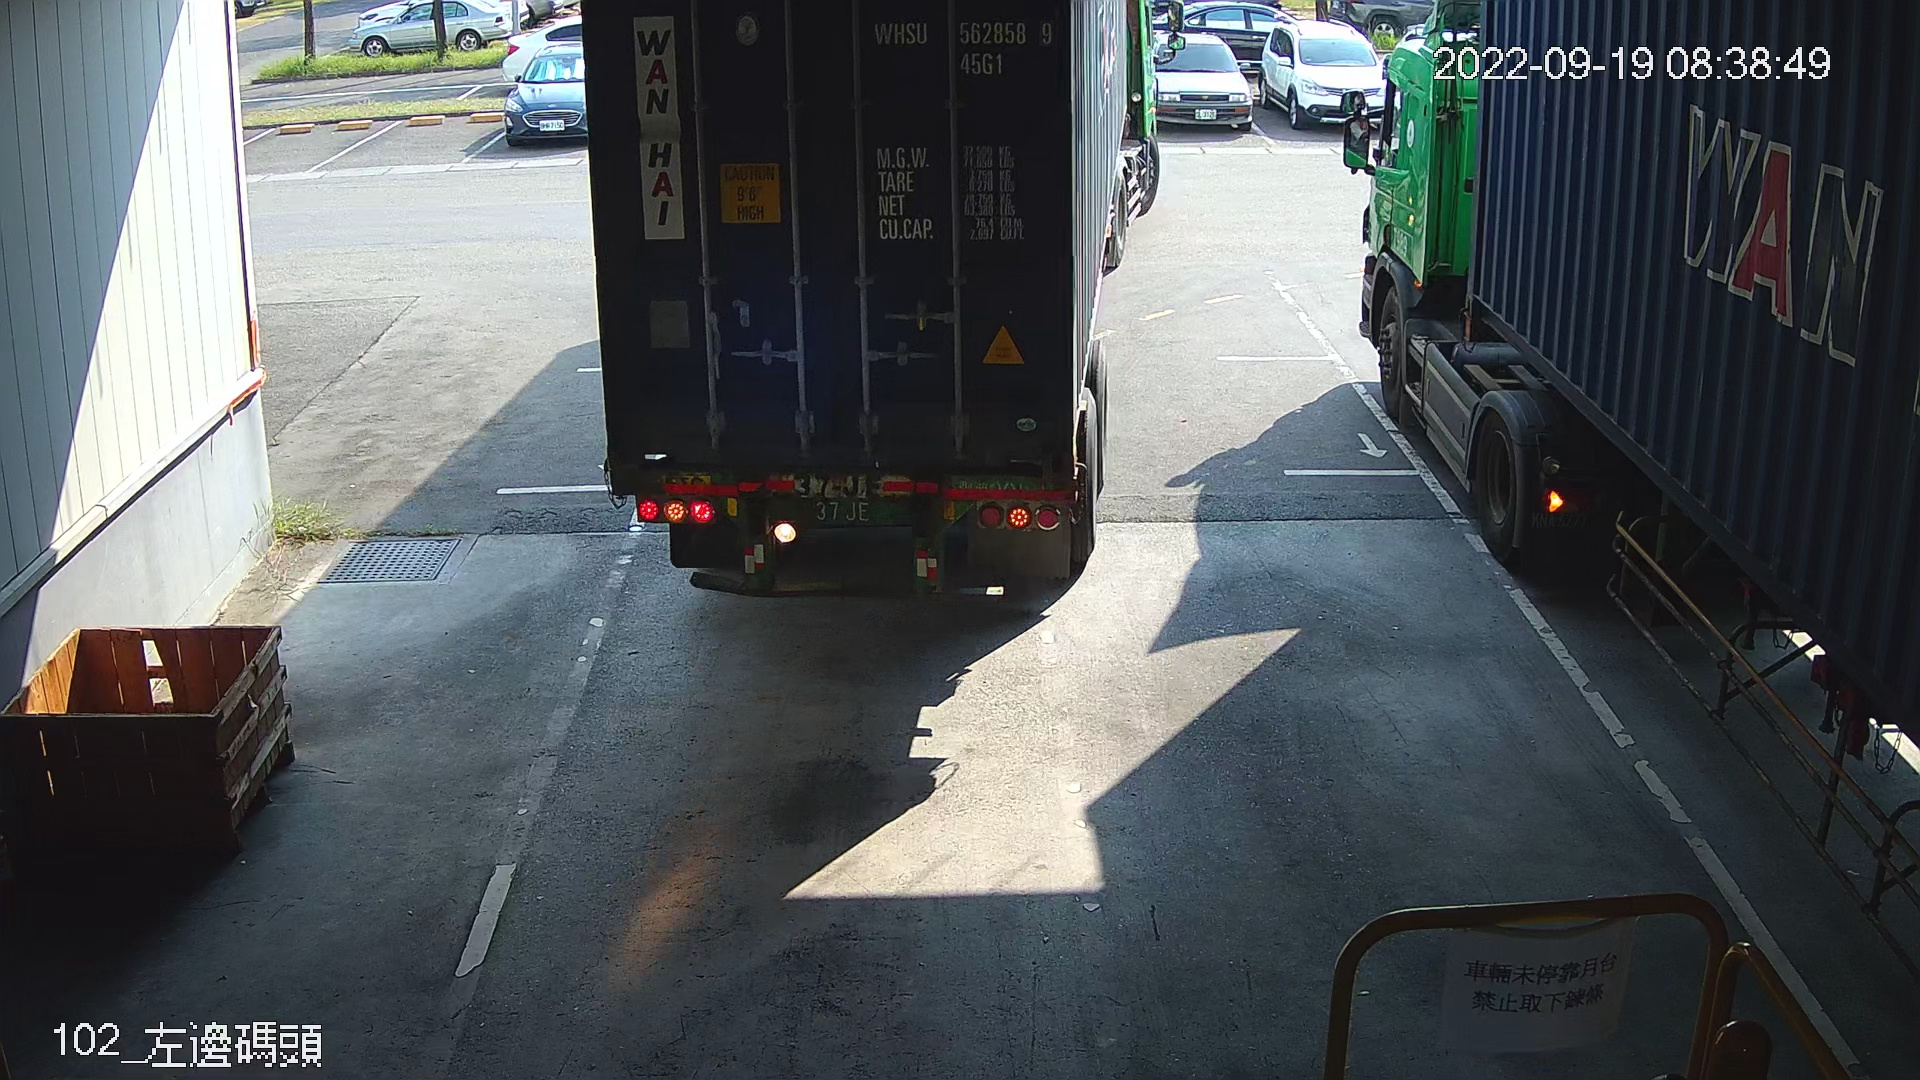container: (866, 11, 1064, 88)
